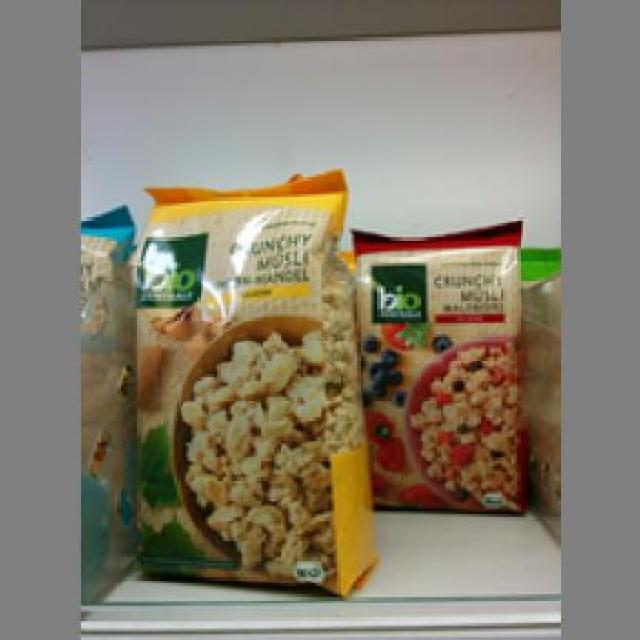Cereal: (128, 166, 372, 594), (346, 217, 526, 512)
